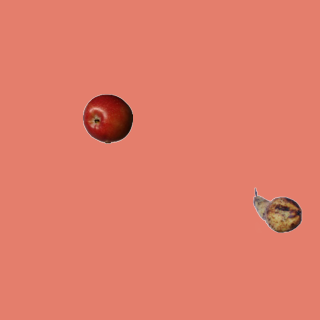Apple Braeburn: (82, 93, 132, 143)
Pear Abate: (252, 185, 302, 235)
